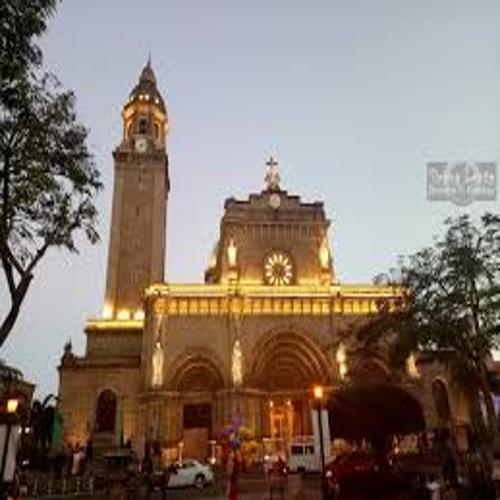Manila Cathedral Church: (37, 38, 435, 458)
